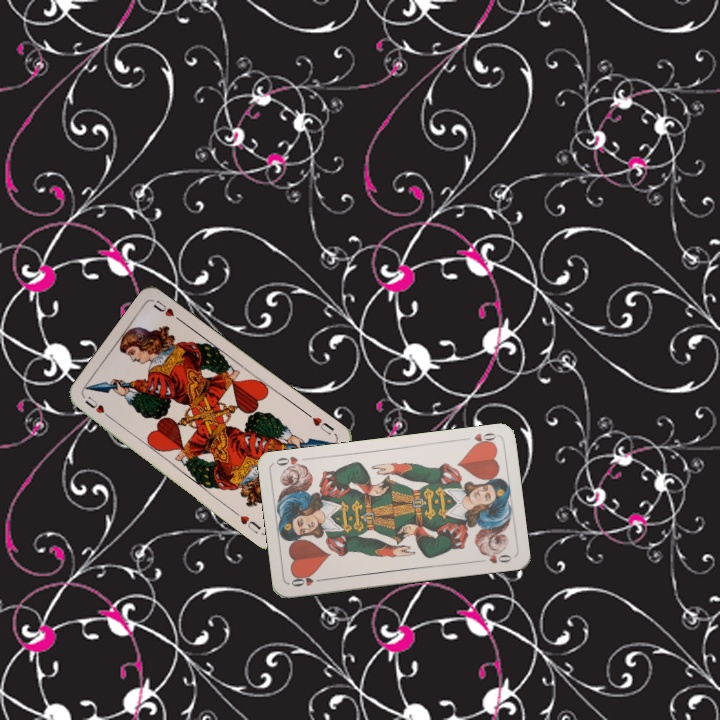HO: (459, 428, 499, 449), (287, 571, 327, 589)
HU: (80, 392, 115, 422), (303, 409, 337, 437)
